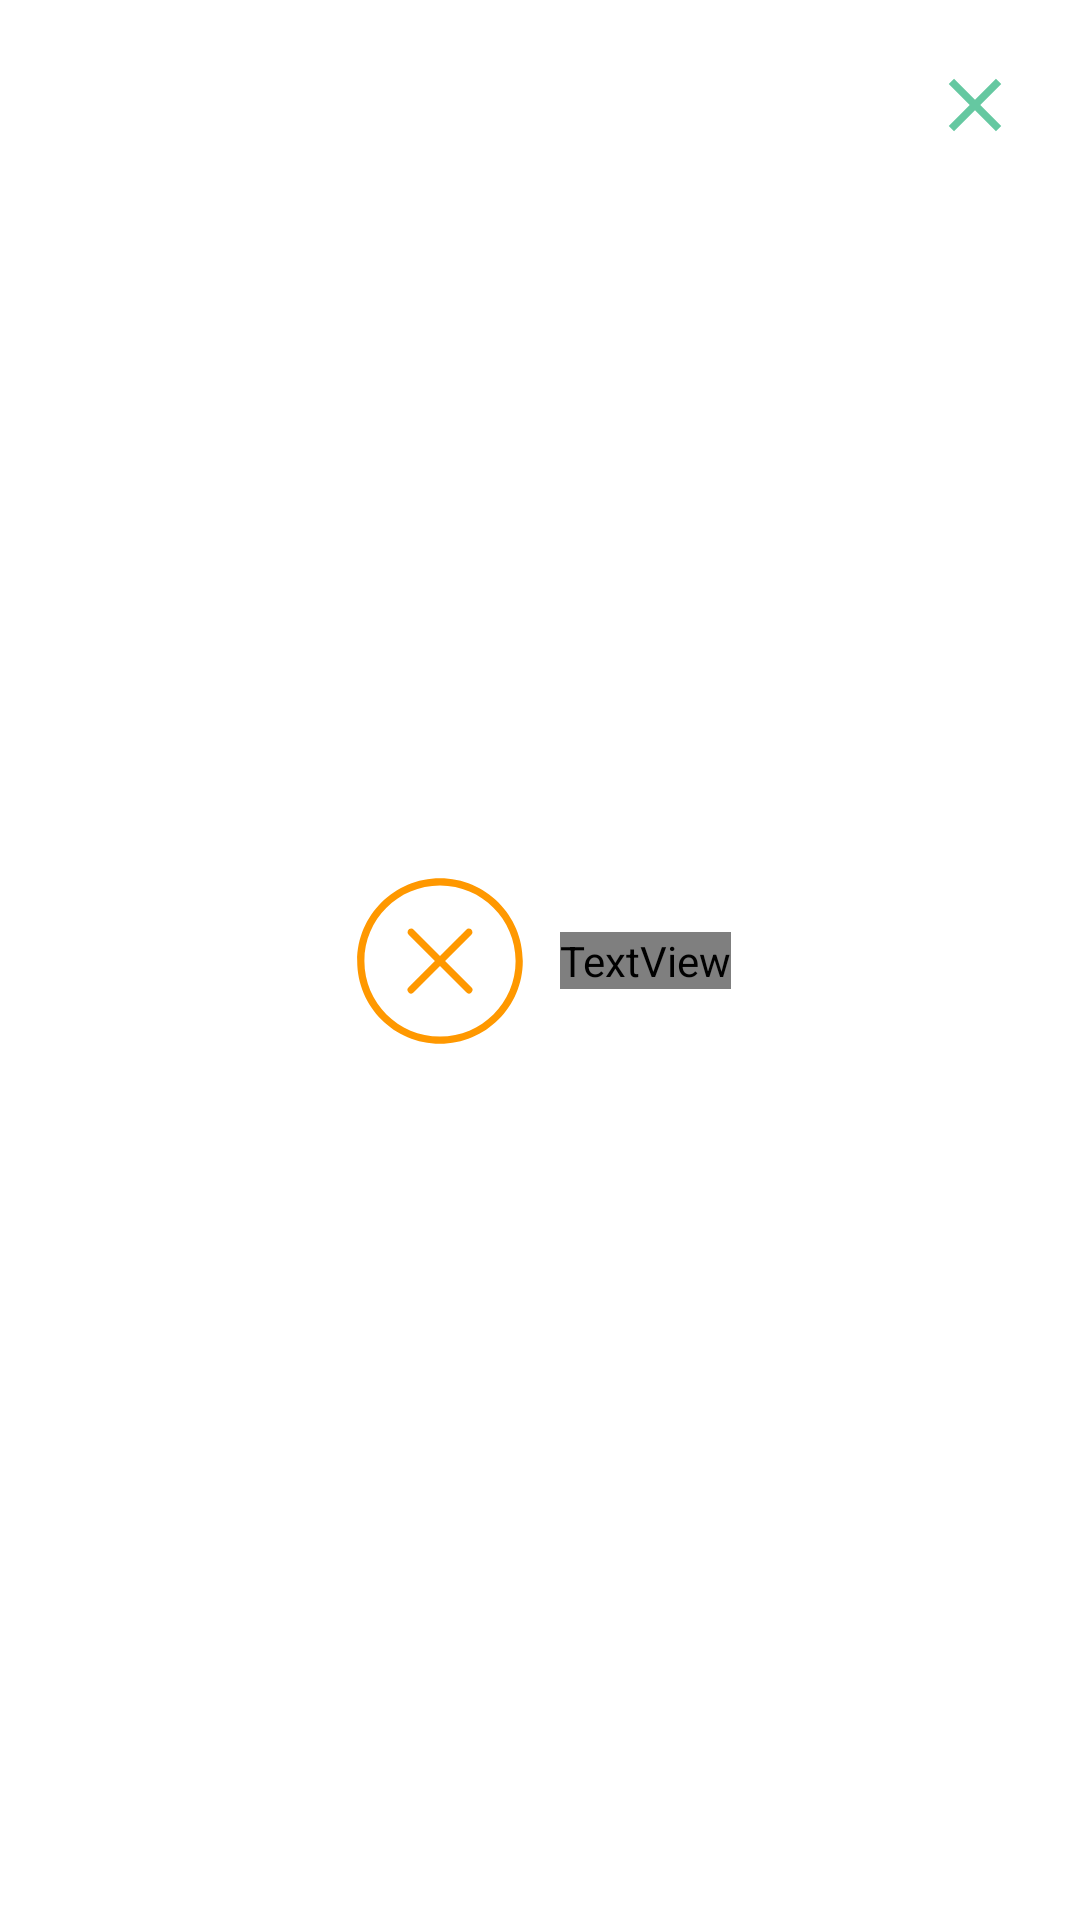

Point at icon controls on the screen. Image size 1080px x 1920px, points as (x=x, y=y).
close: (x=975, y=105)
failed: (x=440, y=961)
